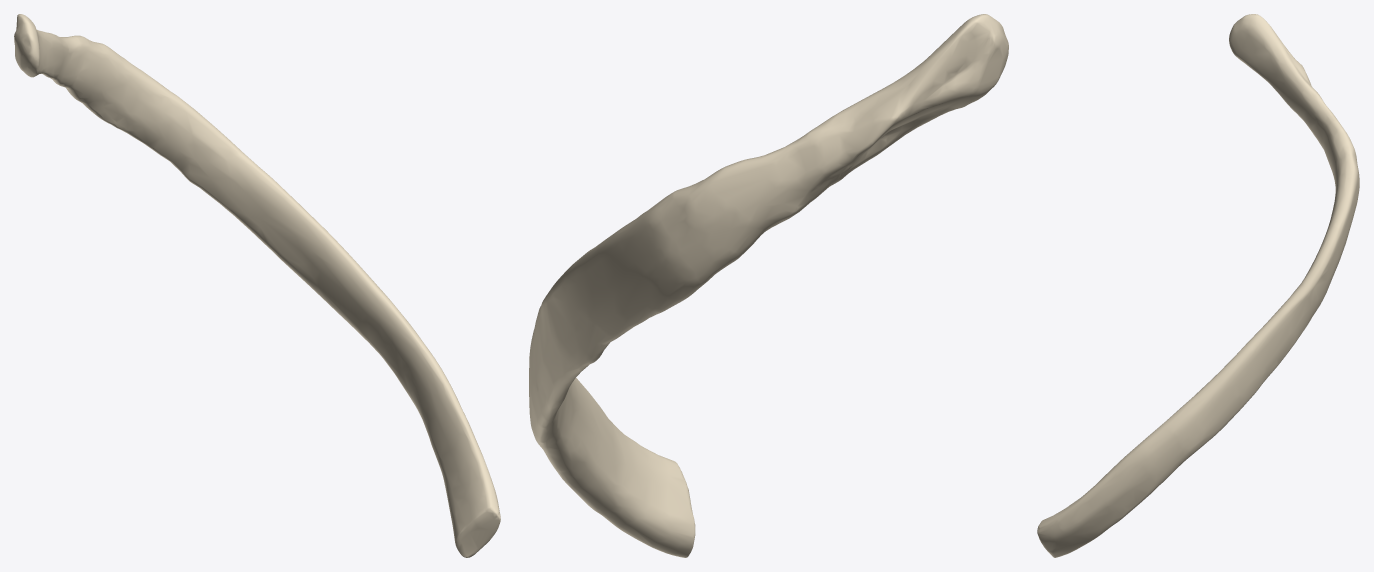
The model's file is tenth-rib-l.glb.
3 views of the same model, side by side, from view 1: azimuth 30°, elevation 25°; view 2: azimuth 150°, elevation 25°; view 3: azimuth 270°, elevation 25° (orthographic). The views are drawn at different scales.
Visible parts, largest first — view 1: Tenth rib.l; view 2: Tenth rib.l; view 3: Tenth rib.l.
Part boxes in pixels (x1,y1,x2,y2): Tenth rib.l: [14, 14, 500, 557]; Tenth rib.l: [529, 14, 1008, 557]; Tenth rib.l: [1037, 14, 1359, 557].
Size of the model in its own units: 0.1129 by 0.1568 by 0.1094.
